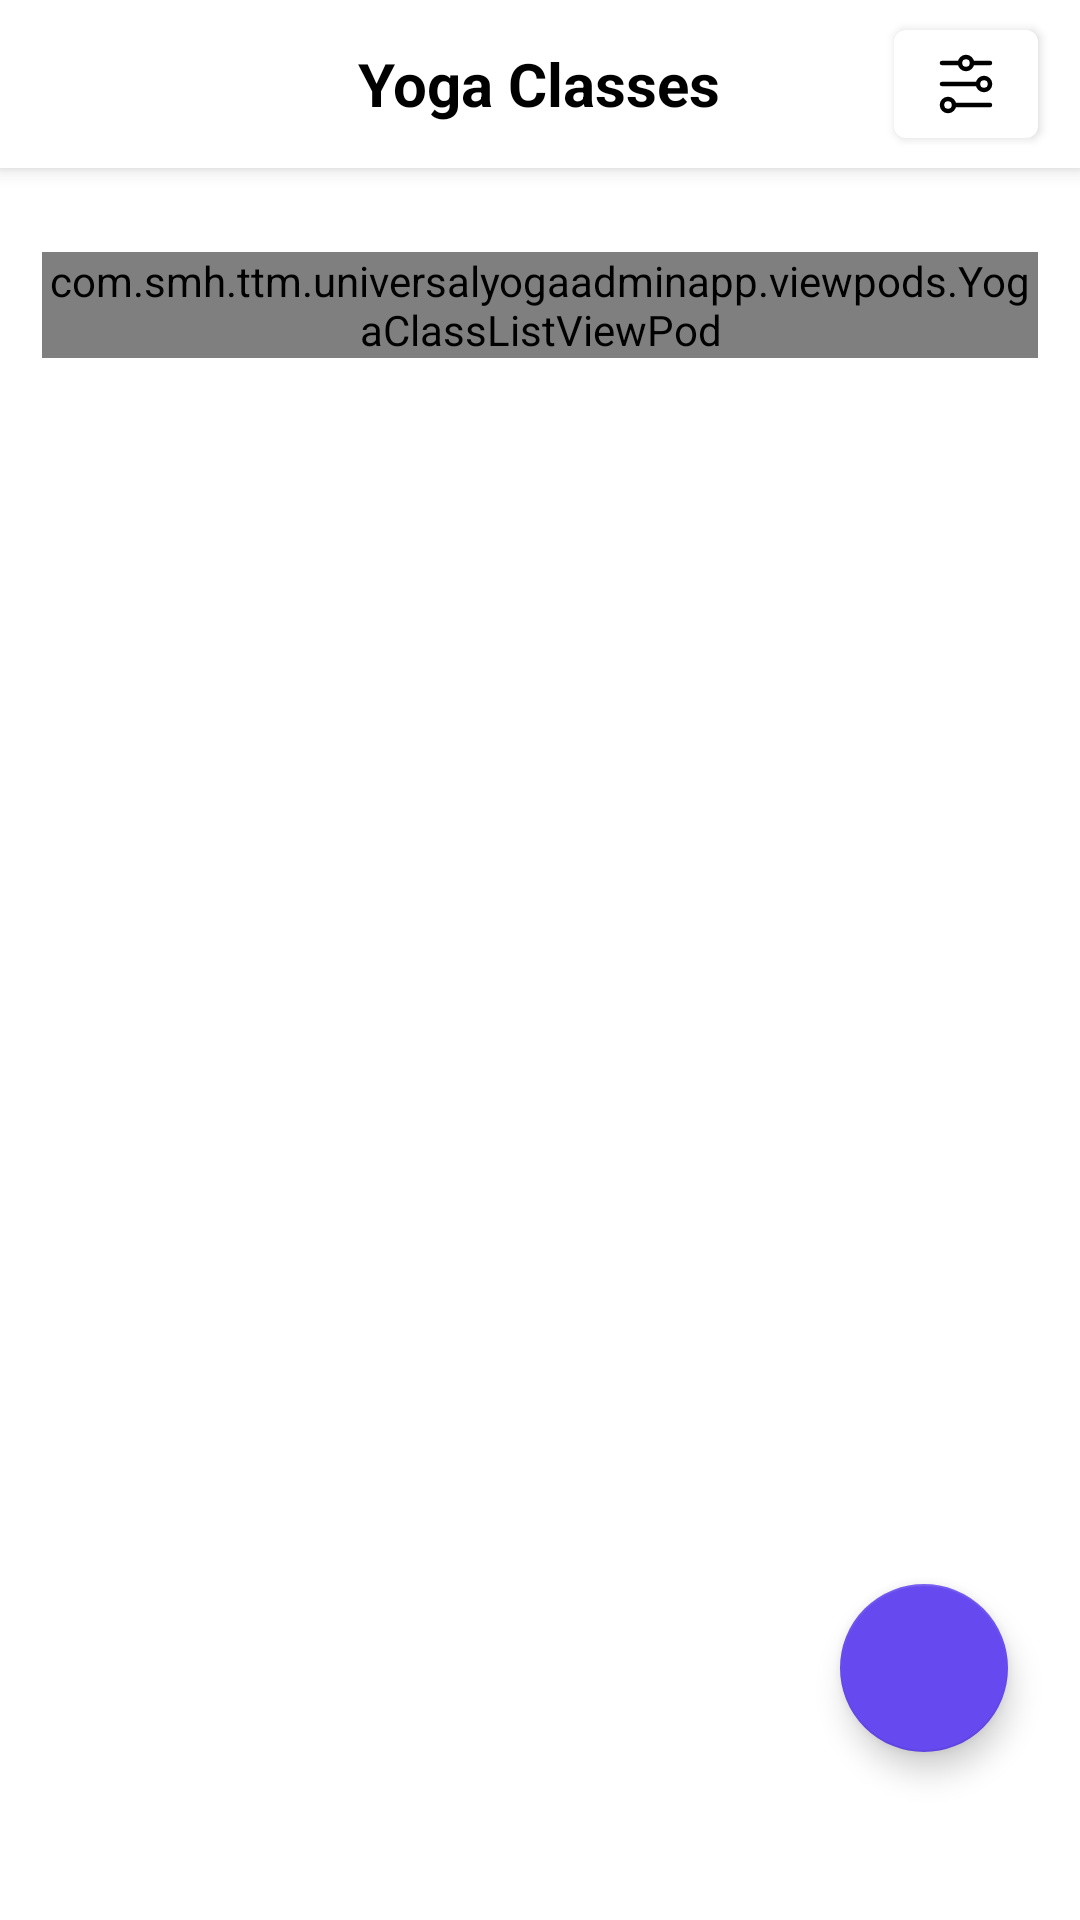

Icon bounding boxes for this 1080w x 1920h phone screenshot, format (x1, y1, x2, y2):
filter: (939, 54, 993, 114)
